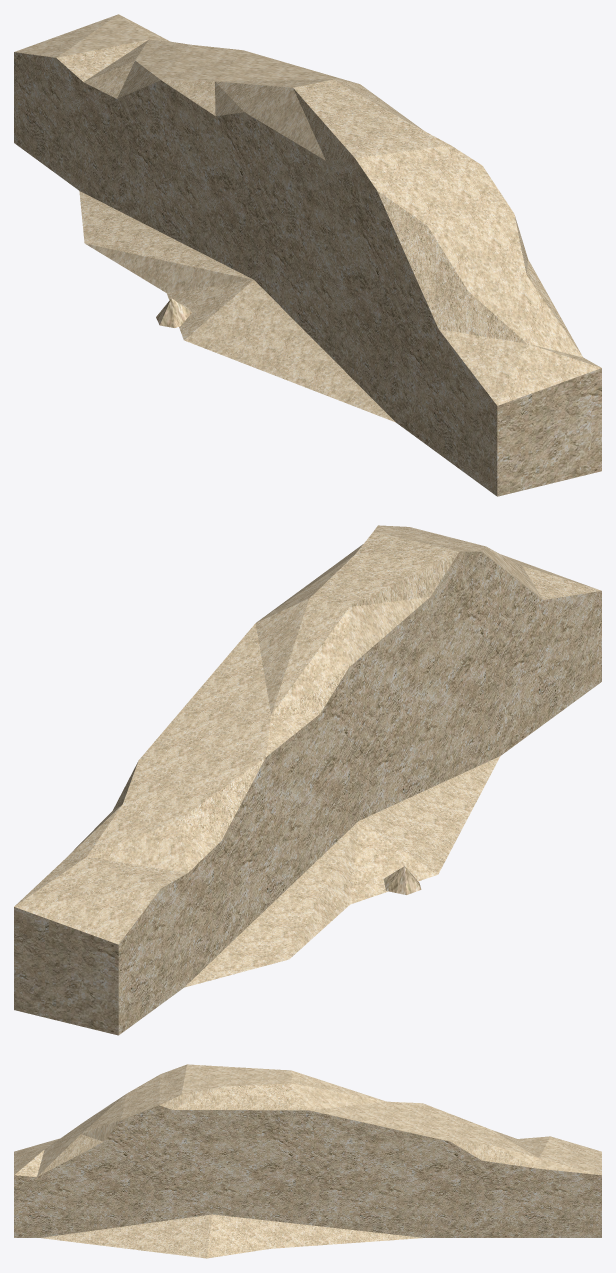
The model's file is thm_tato_imprv_wall_sml_ruin_s01_l1.fbx.
3 views of the same model, one above another, from view 1: azimuth 30°, elevation 25°; view 2: azimuth 150°, elevation 25°; view 3: azimuth 270°, elevation 25° (orthographic). The views are drawn at different scales.
Visible parts, largest first — view 1: mesh_node; view 2: mesh_node; view 3: mesh_node.
Boxes of the visible parts, bbox=[...] form: mesh_node: bbox=[14, 14, 601, 496]; mesh_node: bbox=[14, 525, 601, 1035]; mesh_node: bbox=[14, 1064, 601, 1258].
Bounding box in the file's own units: 1.21 × 1.08 × 4.
